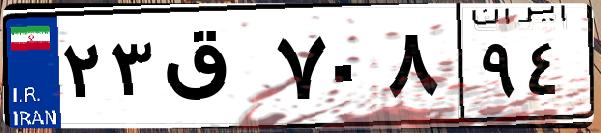0: (330, 28, 385, 110)
2: (57, 26, 110, 100)
3: (110, 28, 158, 98)
4: (525, 38, 570, 115)
7: (270, 28, 330, 110)
8: (385, 28, 445, 110)
9: (475, 38, 525, 113)
ق: (158, 20, 270, 120)
